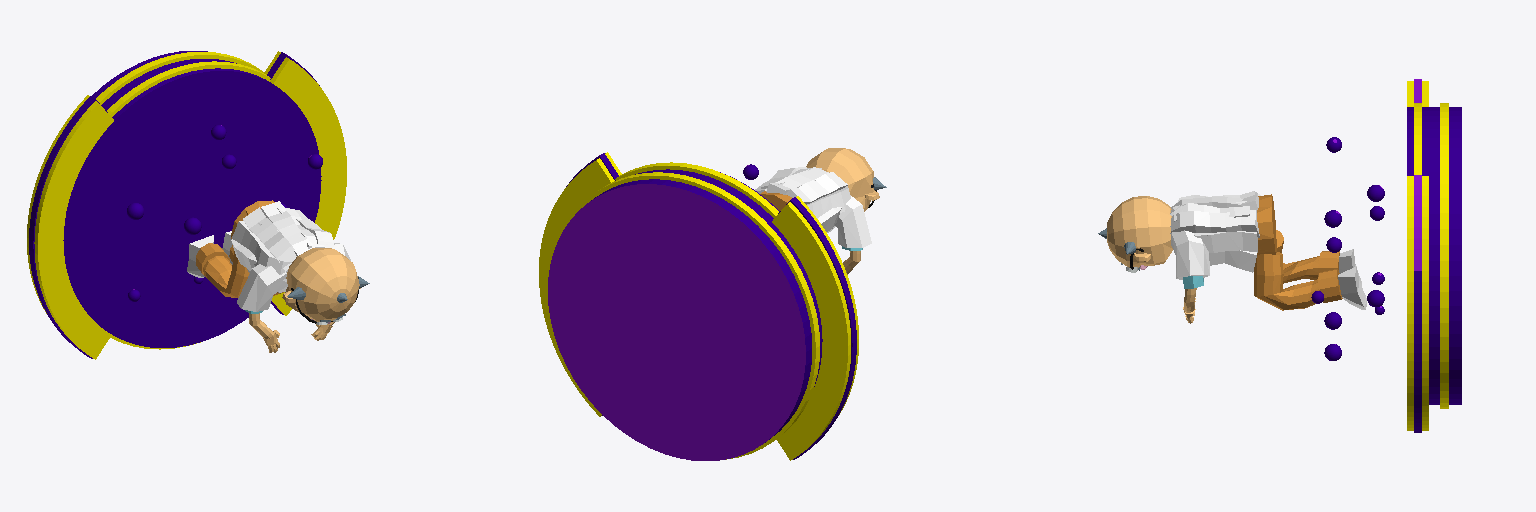
File: scientist_projection.obj
3 renders of one model, left to right at view 1: azimuth 30°, elevation 25°; view 2: azimuth 150°, elevation 25°; view 3: azimuth 270°, elevation 25°, orthographic.
Parts seen in each view (by area): view 1: Object.19, Object.1, Object.17, Object.18, Object.15, Object.16, Object.13; view 2: Object.19, Object.17, Object.1, Object.13, Object.18, Object.15, Object.16; view 3: Object.1, Object.19, Object.18, Object.13, Object.14, Object.16.
Boxes of the visible parts, x1=… form: Object.19: x1=63, y1=51, x2=321, y2=347; Object.1: x1=187, y1=200, x2=369, y2=352; Object.17: x1=27, y1=95, x2=113, y2=359; Object.18: x1=264, y1=51, x2=346, y2=315; Object.15: x1=29, y1=96, x2=108, y2=358; Object.16: x1=107, y1=61, x2=270, y2=349; Object.13: x1=96, y1=52, x2=263, y2=104; Object.19: x1=548, y1=169, x2=822, y2=460; Object.17: x1=772, y1=196, x2=858, y2=460; Object.1: x1=755, y1=148, x2=886, y2=274; Object.13: x1=561, y1=172, x2=819, y2=459; Object.18: x1=539, y1=152, x2=621, y2=416; Object.15: x1=778, y1=197, x2=856, y2=459; Object.16: x1=615, y1=162, x2=778, y2=217; Object.1: x1=1098, y1=191, x2=1366, y2=323; Object.19: x1=1407, y1=107, x2=1461, y2=404; Object.18: x1=1407, y1=176, x2=1428, y2=430; Object.13: x1=1440, y1=103, x2=1448, y2=408; Object.14: x1=1414, y1=175, x2=1421, y2=432; Object.16: x1=1414, y1=103, x2=1421, y2=174.
Size of the model in its own units: 31.38 by 26.7 by 31.79.